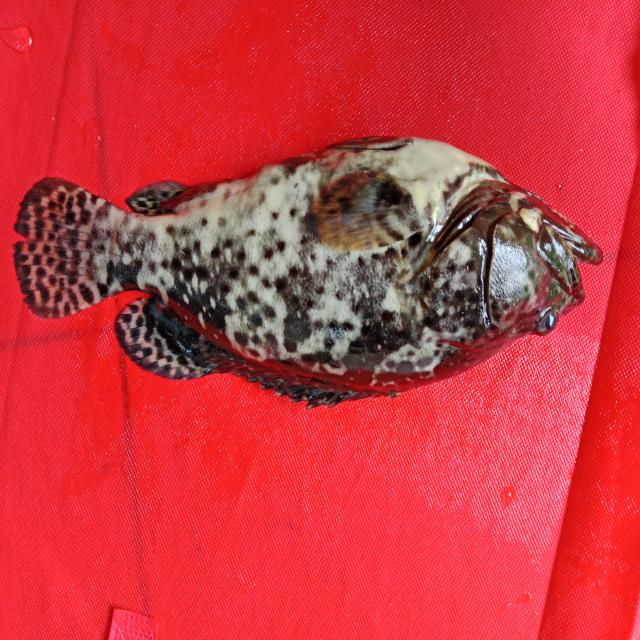ikan: (12, 123, 609, 420)
